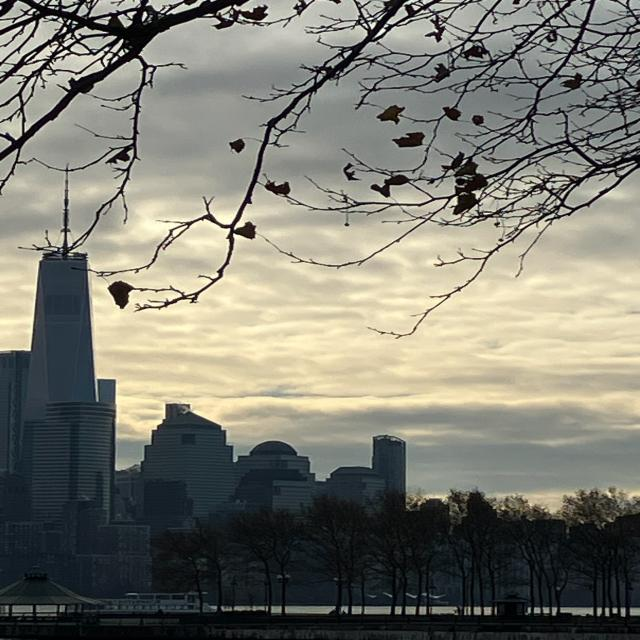WTC: (22, 165, 94, 387)
